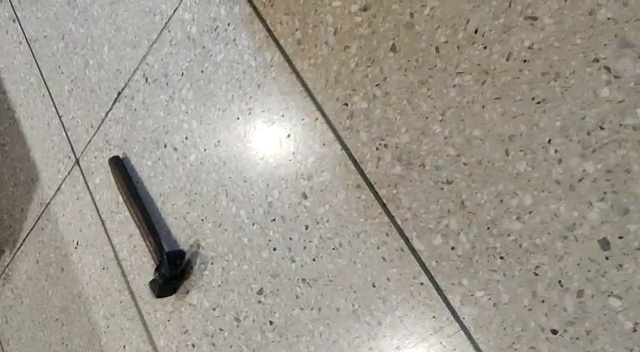hammer: (105, 154, 191, 299)
